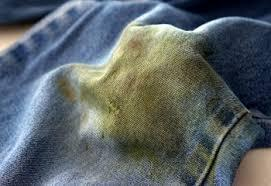earth: (77, 55, 193, 148)
